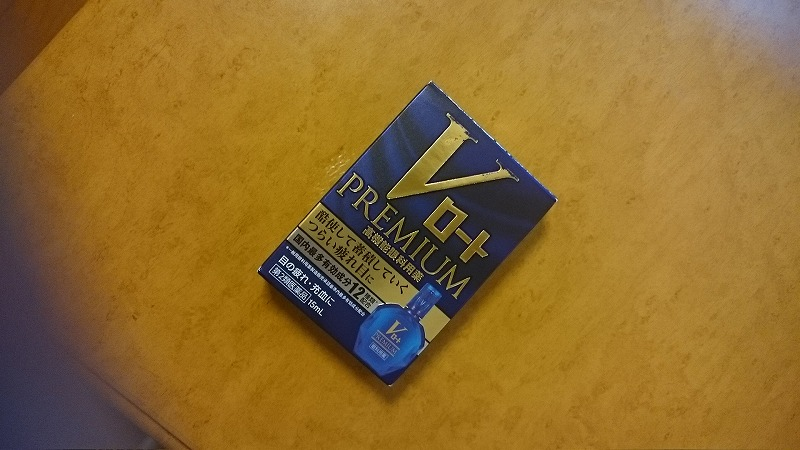D: (252, 73, 562, 394)
